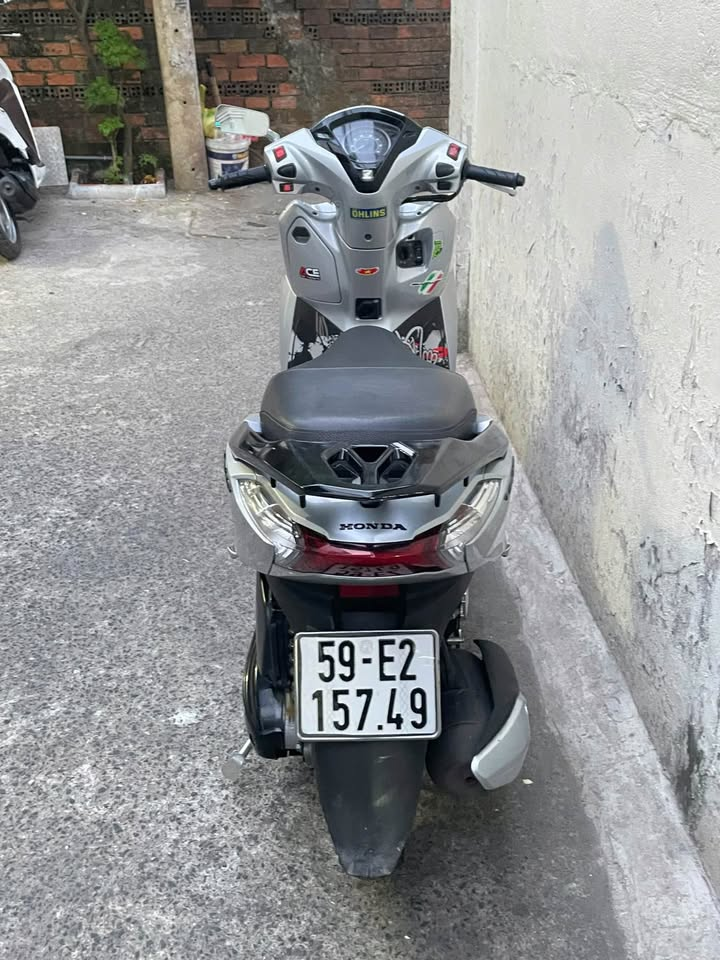bien_so: (289, 625, 454, 746)
